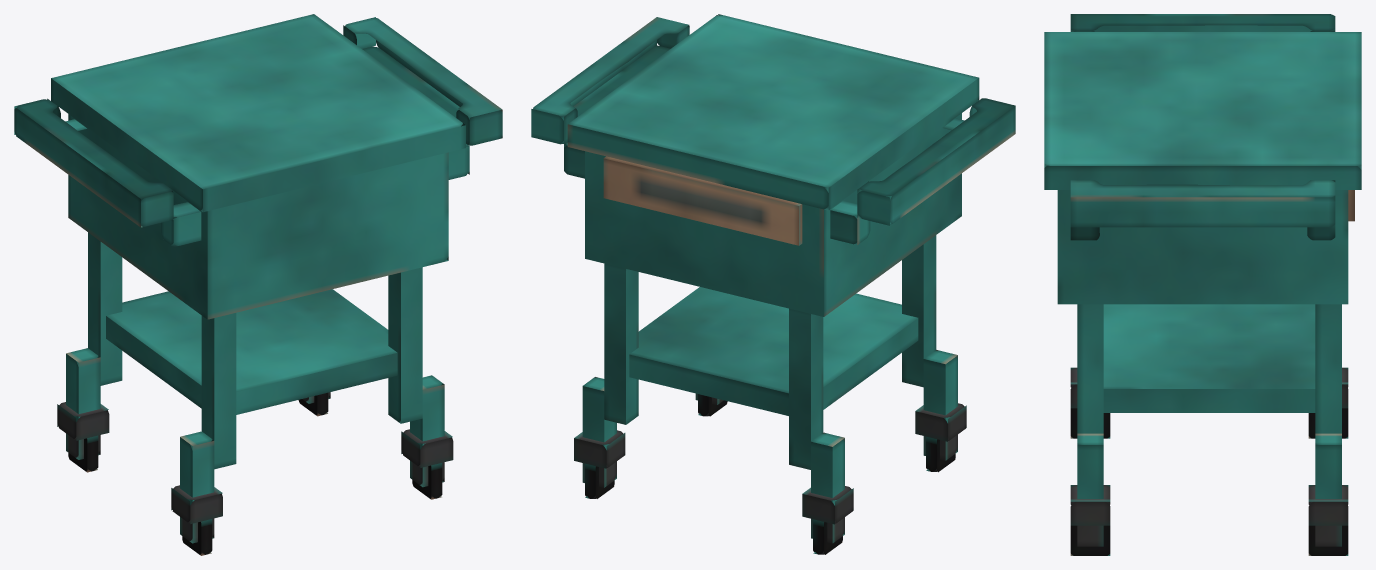
The model's file is bedside_cabinet.obj.
3 renders of one model, left to right at view 1: azimuth 30°, elevation 25°; view 2: azimuth 150°, elevation 25°; view 3: azimuth 270°, elevation 25°, orthographic. The views are drawn at different scales.
Visible parts, largest first — view 1: cube, top, caixa, roda; view 2: cube, top, caixa, gaveta, roda; view 3: cube, top, caixa, roda.
Boxes of the visible parts, x1,y1,x2,y2 form: cube: (14, 17, 502, 543); top: (51, 14, 465, 212); caixa: (68, 114, 448, 319); roda: (68, 392, 442, 555); cube: (531, 17, 1015, 543); top: (567, 14, 979, 210); caixa: (585, 113, 961, 316); gaveta: (603, 156, 802, 245); roda: (585, 394, 955, 554); cube: (1070, 14, 1348, 546); top: (1044, 32, 1361, 189); caixa: (1057, 190, 1348, 304); roda: (1070, 408, 1348, 555).
Size of the model in its own units: 1.03 by 1.03 by 0.75.
